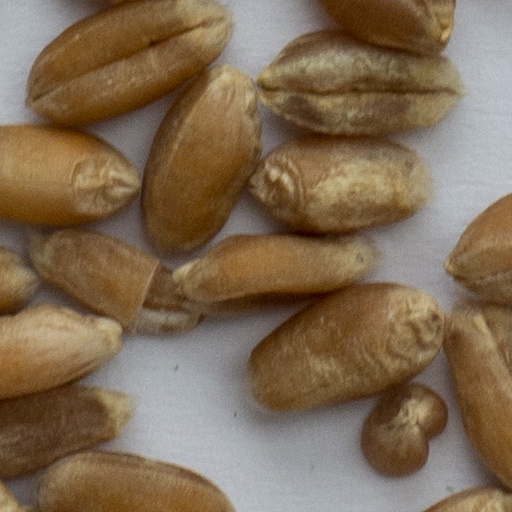Wheat-grain-damaged-poly: (359, 387, 447, 477)
